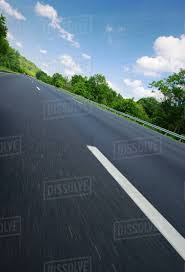strada: (2, 94, 184, 269)
